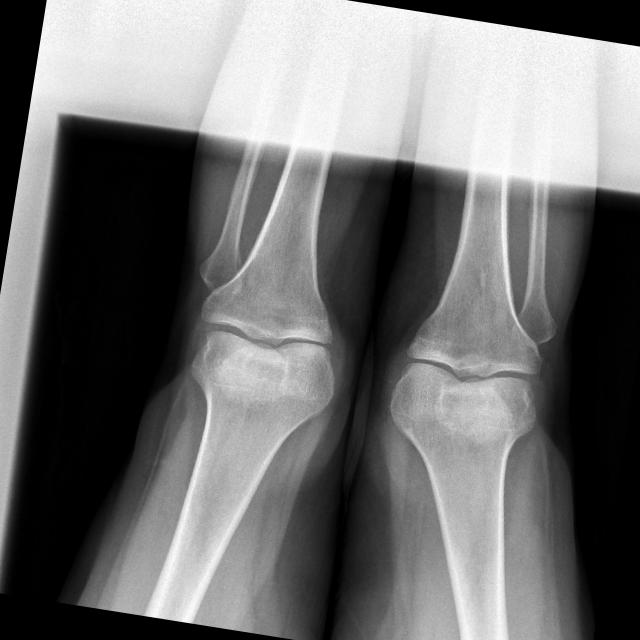Knee: (188, 273, 352, 418), (383, 318, 554, 449)
